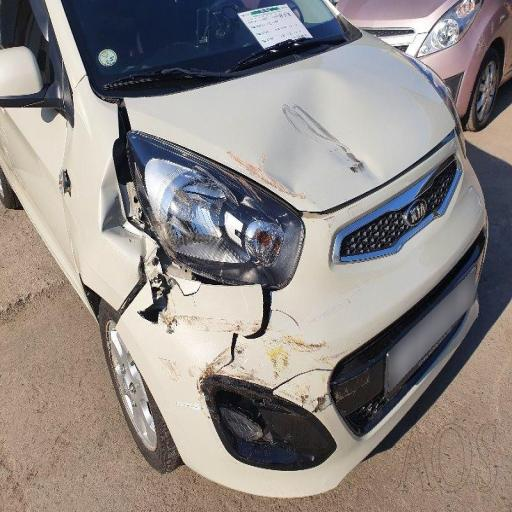broken: (111, 167, 301, 369)
scratch: (191, 298, 363, 428), (267, 89, 386, 188)
